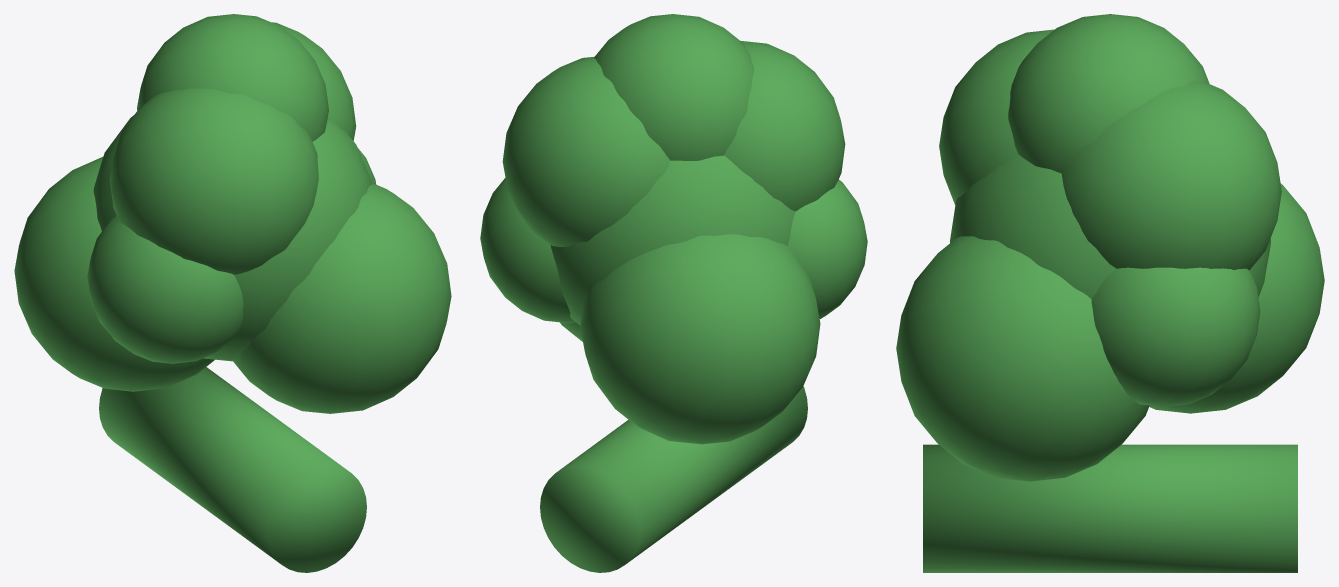
File: zovix_ultimate_679f3fec.glb
3 renders of one model, left to right at view 1: azimuth 30°, elevation 25°; view 2: azimuth 150°, elevation 25°; view 3: azimuth 270°, elevation 25°, orthographic. The views are drawn at different scales.
Visible parts, largest first — view 1: world; view 2: world; view 3: world.
Part boxes in pixels (left/top/right/bottom): world: left=14, top=14, right=451, bottom=572; world: left=480, top=14, right=867, bottom=572; world: left=896, top=14, right=1324, bottom=572.
Bounding box in the file's own units: 0.8 × 1.12 × 0.8.
